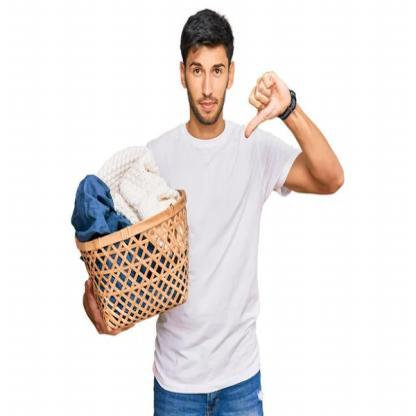thumb_down: (242, 62, 294, 140)
